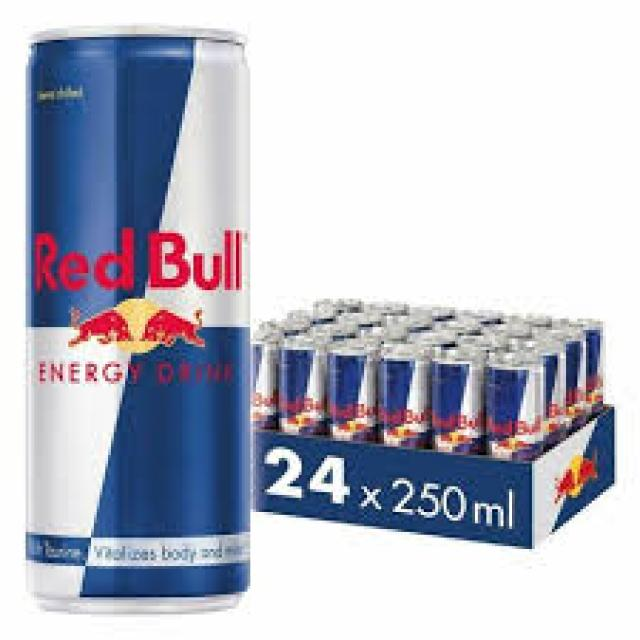red-bull: (25, 23, 253, 616)
